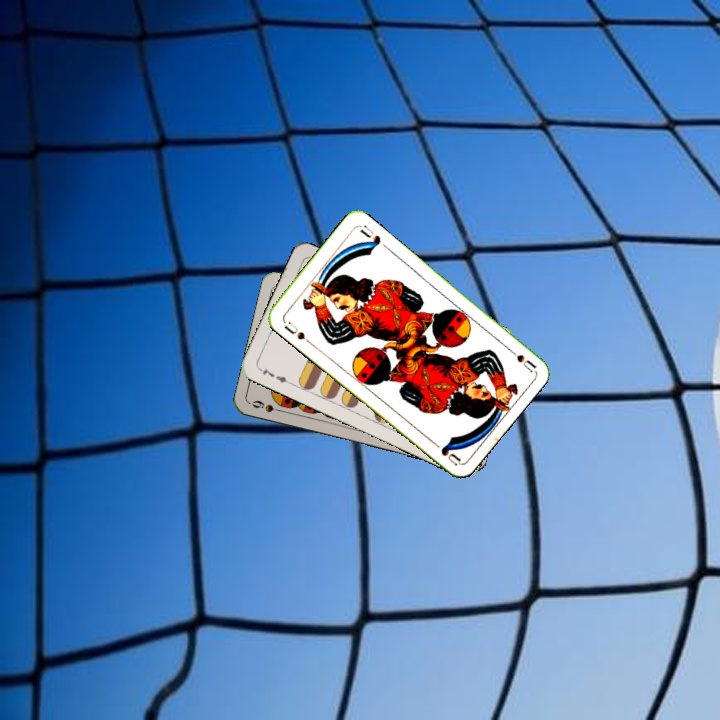E7: (255, 364, 293, 387)
S9: (248, 396, 288, 415)
SU: (502, 342, 538, 374), (279, 316, 313, 346)
